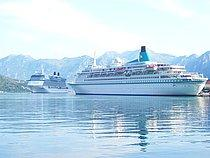Ship: (64, 45, 210, 99), (26, 63, 71, 95)
